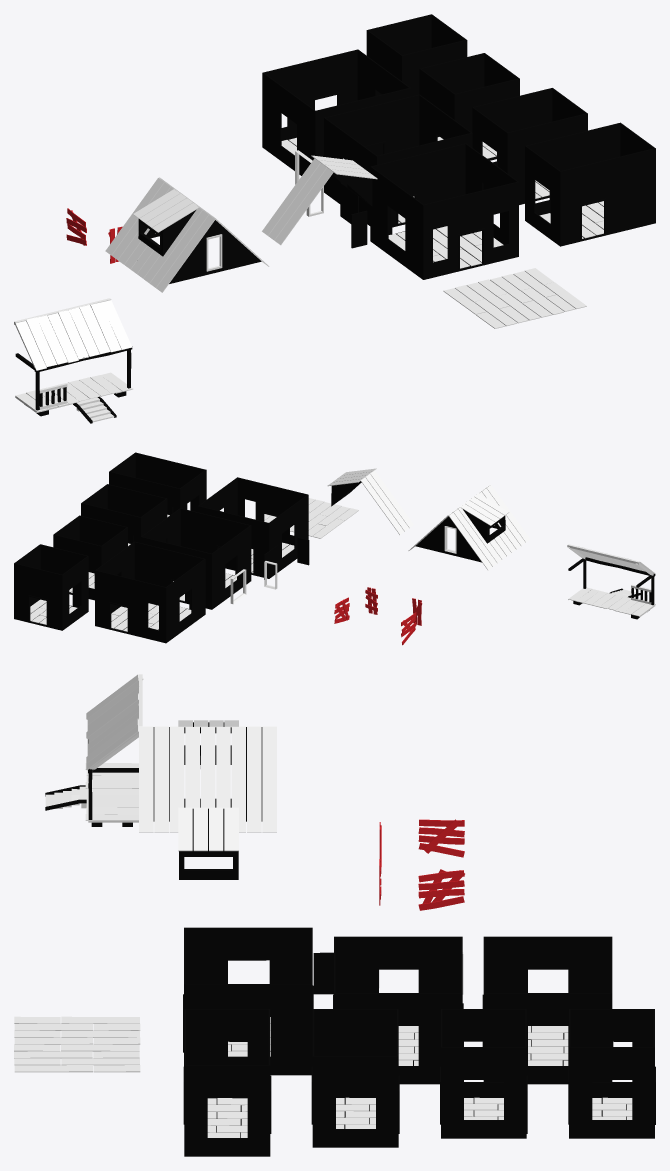
File: NoCcabinModular.fbx
3 views of the same model, one above another, from view 1: azimuth 30°, elevation 25°; view 2: azimuth 150°, elevation 25°; view 3: azimuth 270°, elevation 25° (orthographic). The views are drawn at different scales.
Parts seen in each view (by area): view 1: MainRoom, SmallRoom1, MediumRoom2, MediumRoom1, Roof, SmallRoom2, DeckRoof, SmallRoom3, MainRoomFloor, SmallRoom4, RoofWindowLeft, RoofBlockLeft (+4 smaller); view 2: MediumRoom2, MediumRoom1, MainRoom, SmallRoom4, SmallRoom1, Roof, SmallRoom2, SmallRoom3, MainRoomFloor, DeckRoof, RoofWindowLeft, Deck (+5 smaller); view 3: MainRoom, MediumRoom1, MediumRoom2, SmallRoom1, SmallRoom2, SmallRoom4, SmallRoom3, Roof, MainRoomFloor, DeckRoof, RoofWindowRight, RoofBlockRight (+5 smaller).
Boxes of the visible parts, box(x1,y1,x2,y2) form: MainRoom: box(370, 143, 518, 279); SmallRoom1: box(525, 122, 655, 246); MediumRoom2: box(262, 49, 410, 175); MediumRoom1: box(324, 94, 472, 227); Roof: box(105, 177, 269, 292); SmallRoom2: box(472, 88, 587, 204); DeckRoof: box(14, 298, 132, 410); SmallRoom3: box(419, 53, 519, 160); MainRoomFloor: box(443, 268, 586, 328); SmallRoom4: box(366, 14, 467, 96); RoofWindowLeft: box(133, 189, 199, 256); RoofBlockLeft: box(262, 158, 333, 245); MediumRoom2: box(95, 541, 205, 643); MediumRoom1: box(141, 508, 251, 609); MainRoom: box(198, 477, 308, 578); SmallRoom4: box(14, 544, 88, 630); SmallRoom1: box(109, 452, 206, 517); Roof: box(408, 484, 530, 570); SmallRoom2: box(81, 484, 167, 545); SmallRoom3: box(53, 515, 127, 600); MainRoomFloor: box(255, 498, 358, 538); DeckRoof: box(567, 544, 655, 605); RoofWindowLeft: box(460, 493, 509, 543); Deck: box(568, 587, 655, 619); MainRoom: box(183, 927, 313, 1075); MediumRoom1: box(333, 936, 463, 1084); MediumRoom2: box(482, 936, 613, 1084); SmallRoom1: box(183, 1009, 271, 1156); SmallRoom2: box(311, 1009, 399, 1147); SmallRoom4: box(568, 1009, 655, 1138); SmallRoom3: box(440, 1009, 527, 1138); Roof: box(139, 726, 276, 832); MainRoomFloor: box(14, 1016, 140, 1072); DeckRoof: box(86, 674, 143, 819); RoofWindowRight: box(178, 807, 238, 879); RoofBlockRight: box(185, 727, 230, 796).
Bounding box in the file's own units: 43.31 × 8.58 × 30.04.
Materials: 1 (1 with a texture image).
